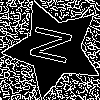N: (28, 23, 82, 69)
